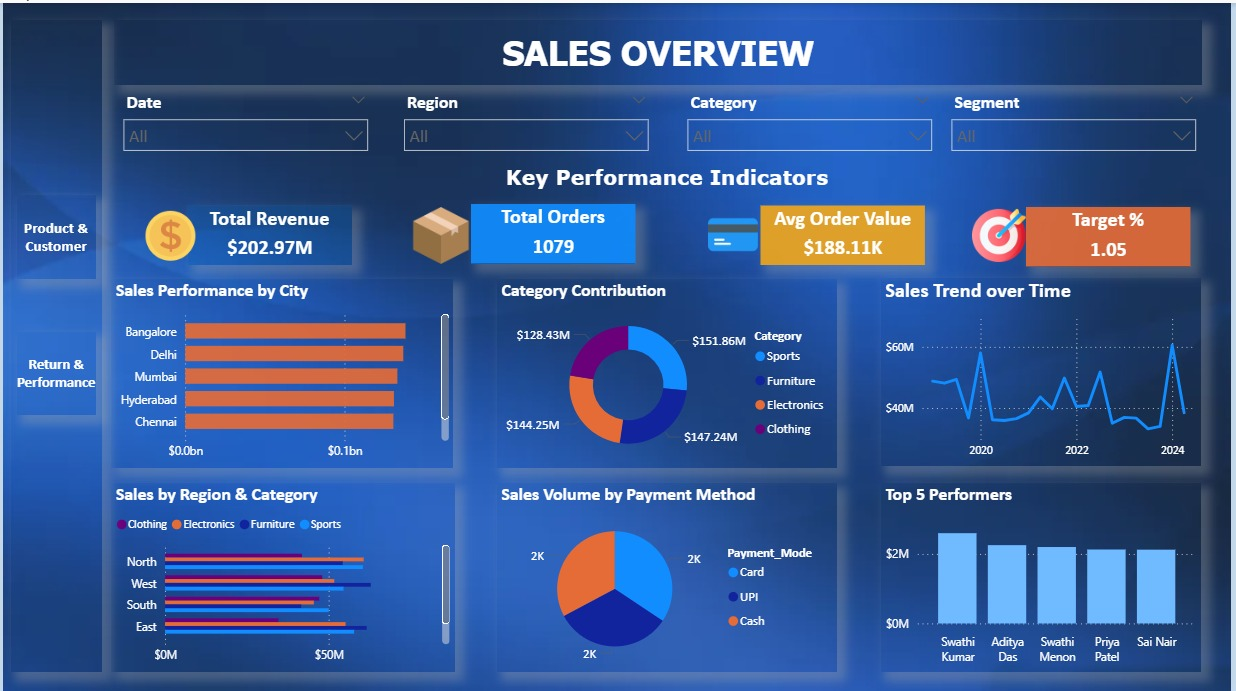

The page's visual inventory and layout, read from the dashboard file:
{"tool":"powerbi","page":{"name":"Sales Overview","canvas":[1280,720],"ordinal":0},"visuals":[{"type":"shape","box":[115.3,162.6,1152.9,37],"z":0},{"type":"card","title":"Total Revenue","fields":{"Values":["Measures Table.Total_Revenue"]},"box":[192.1,211.4,171.5,62.1],"z":1000},{"type":"card","title":"Total Orders","fields":{"Values":["Measures Table.Total_Order"]},"box":[487.8,209.9,171.5,62.1],"z":2000},{"type":"shape","box":[115.3,17.7,1133.7,68],"z":3000},{"type":"slicer","title":"Date","fields":{"Values":["Sales_Data.Order_Date"]},"box":[115.3,85.7,274.9,76.9],"z":4000},{"type":"slicer","fields":{"Values":["Sales_Data.Region"]},"box":[407.9,86.5,274.9,75.4],"z":5000},{"type":"slicer","fields":{"Values":["Product_Data.Category"]},"box":[703.6,86.5,274.9,75.4],"z":6000},{"type":"slicer","fields":{"Values":["Customer_Data.Segment"]},"box":[978.5,85.7,274.9,76.9],"z":7000},{"type":"card","title":"Avg Order Value","fields":{"Values":["Measures Table.Avg_Order_Value"]},"box":[789.3,211.4,171.5,62.1],"z":8000},{"type":"card","title":"Target %","fields":{"Values":["Measures Table.Target_Achievement%"]},"box":[1066.4,212.1,171.5,62.1],"z":9000},{"type":"lineChart","title":"Sales Trend over Time","fields":{"Y":["Measures Table.Total_Revenue"],"Category":["Sales_Data.Order_Date.Variation.Date Hierarchy.Year","Sales_Data.Order_Date.Variation.Date Hierarchy.Quarter"]},"box":[914.9,286.7,334,196.6],"z":10000},{"type":"donutChart","title":"Category Contribution","fields":{"Category":["Product_Data.Category"],"Y":["Measures Table.Total_Revenue"]},"box":[514.4,288.2,354.7,196.6],"z":11000},{"type":"clusteredBarChart","title":"Sales by Region & Category","fields":{"Category":["Sales_Data.Region"],"Y":["Measures Table.Total_Revenue"],"Series":["Product_Data.Category"]},"box":[112.3,499.6,357.7,196.6],"z":12000},{"type":"pieChart","title":"Sales Volume by Payment Method","fields":{"Category":["Sales_Data.Payment_Mode"],"Y":["Sum(Sales_Data.Quantity)"]},"box":[514.4,499.6,354.7,196.6],"z":13000},{"type":"clusteredColumnChart","title":"Top 5 Performers","fields":{"Y":["Measures Table.Total_Revenue"],"Category":["Sales_Data.Salesperson"]},"box":[915,500,334,197],"z":14000},{"type":"clusteredBarChart","title":"Sales Performance by City","fields":{"Category":["Sales_Data.City"],"Y":["Measures Table.Total_Revenue"]},"box":[112.2,287.3,357,197.2],"z":15000},{"type":"shape","box":[8.5,17,95.2,679.9],"z":16000},{"type":"shape","box":[14.8,199.5,82.8,87.2],"z":17000},{"type":"shape","box":[14.8,342.9,82.8,87.2],"z":18000},{"type":"image","box":[148.5,212.9,52,59.4],"z":19000},{"type":"image","box":[1010.1,212.9,55.7,59.4],"z":20000},{"type":"image","box":[735.3,211.7,52,60.7],"z":21000},{"type":"image","box":[427.1,212.9,59.4,59.4],"z":22000}]}

Visuals, with their boxes in screenshot pixels (x1, y1, x2, y2), scaled from the page's 1280x720 canvas onto the 1236x691 screenshot:
shape: crop(111, 156, 1225, 192)
"Total Revenue" card: crop(185, 203, 351, 262)
"Total Orders" card: crop(471, 201, 637, 261)
shape: crop(111, 17, 1206, 82)
"Date" slicer: crop(111, 82, 377, 156)
slicer - Sales_Data.Region: crop(394, 83, 659, 155)
slicer - Product_Data.Category: crop(679, 83, 945, 155)
slicer - Customer_Data.Segment: crop(945, 82, 1210, 156)
"Avg Order Value" card: crop(762, 203, 928, 262)
"Target %" card: crop(1030, 204, 1195, 263)
"Sales Trend over Time" lineChart: crop(883, 275, 1206, 464)
"Category Contribution" donutChart: crop(497, 277, 839, 465)
"Sales by Region & Category" clusteredBarChart: crop(108, 479, 454, 668)
"Sales Volume by Payment Method" pieChart: crop(497, 479, 839, 668)
"Top 5 Performers" clusteredColumnChart: crop(884, 480, 1206, 669)
"Sales Performance by City" clusteredBarChart: crop(108, 276, 453, 465)
shape: crop(8, 16, 100, 669)
shape: crop(14, 191, 94, 275)
shape: crop(14, 329, 94, 413)
image: crop(143, 204, 194, 261)
image: crop(975, 204, 1029, 261)
image: crop(710, 203, 760, 261)
image: crop(412, 204, 470, 261)
